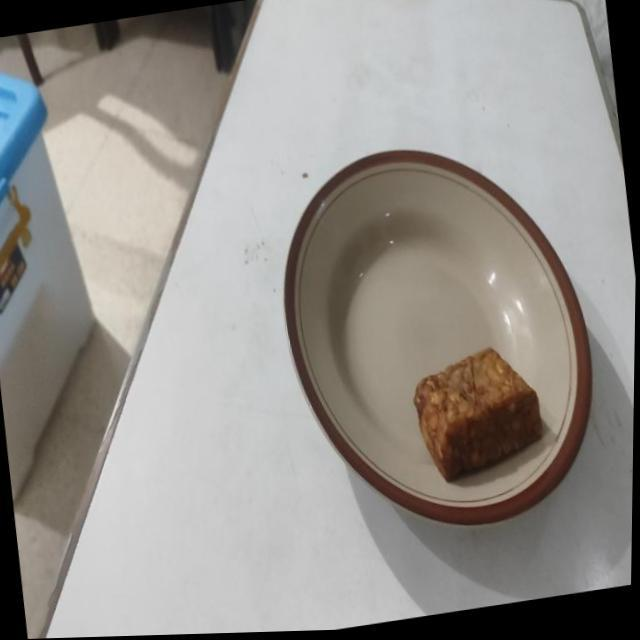tempe_goreng: (414, 348, 541, 480)
